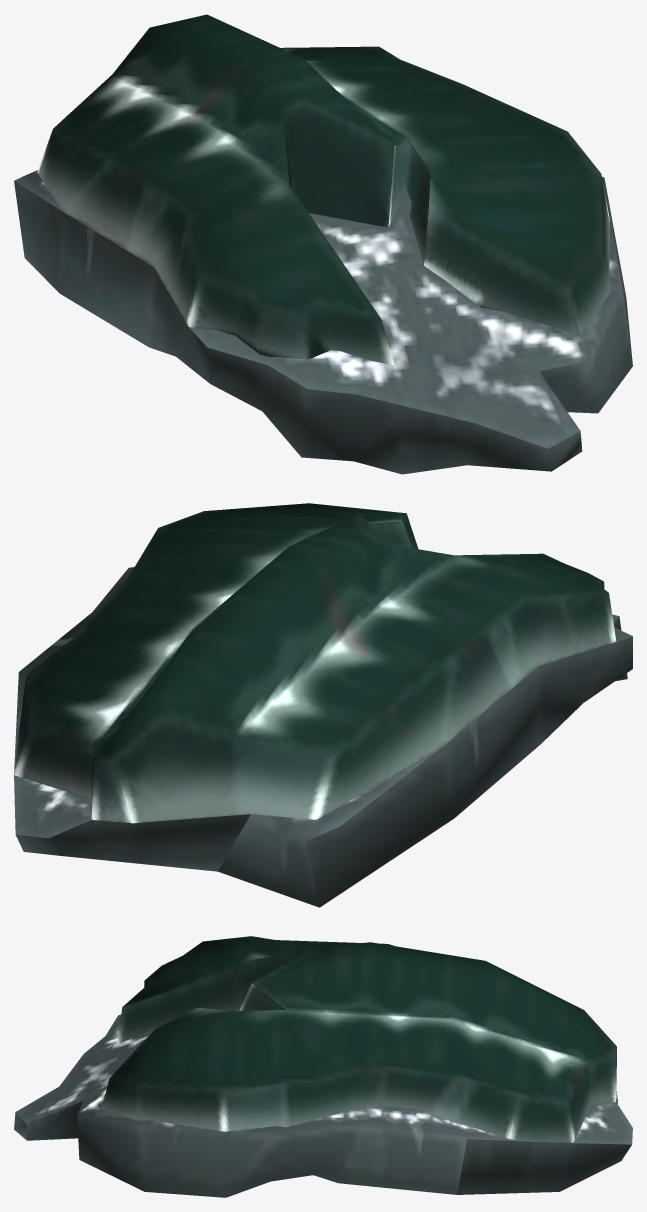
The model's file is Item_Enemy_52.glb.
3 renders of one model, top to bottom at view 1: azimuth 30°, elevation 25°; view 2: azimuth 150°, elevation 25°; view 3: azimuth 270°, elevation 25°, orthographic. The views are drawn at different scales.
Visible parts, largest first — view 1: Item_Enemy_52; view 2: Item_Enemy_52; view 3: Item_Enemy_52.
Boxes of the visible parts, x1,y1,x2,y2 form: Item_Enemy_52: (14, 14, 632, 474); Item_Enemy_52: (14, 503, 632, 907); Item_Enemy_52: (14, 936, 632, 1197).
Size of the model in its own units: 0.9441 by 0.4881 by 1.5.
Materials: 2 (2 with a texture image).
